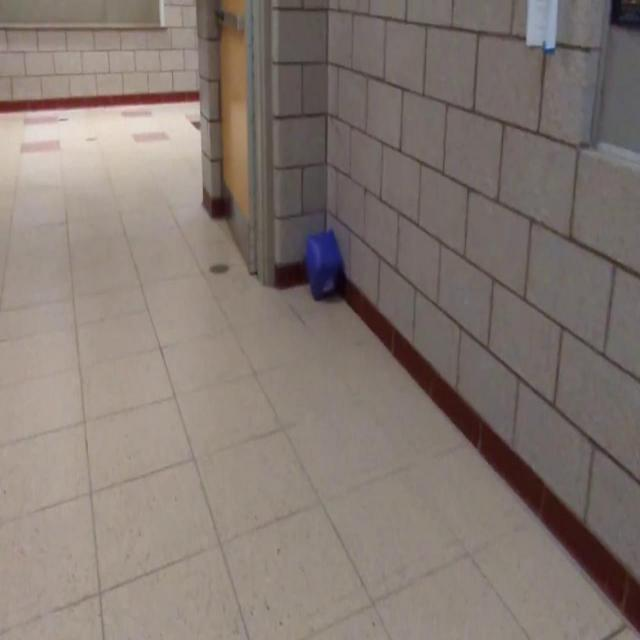frc_cube: (306, 228, 344, 305)
